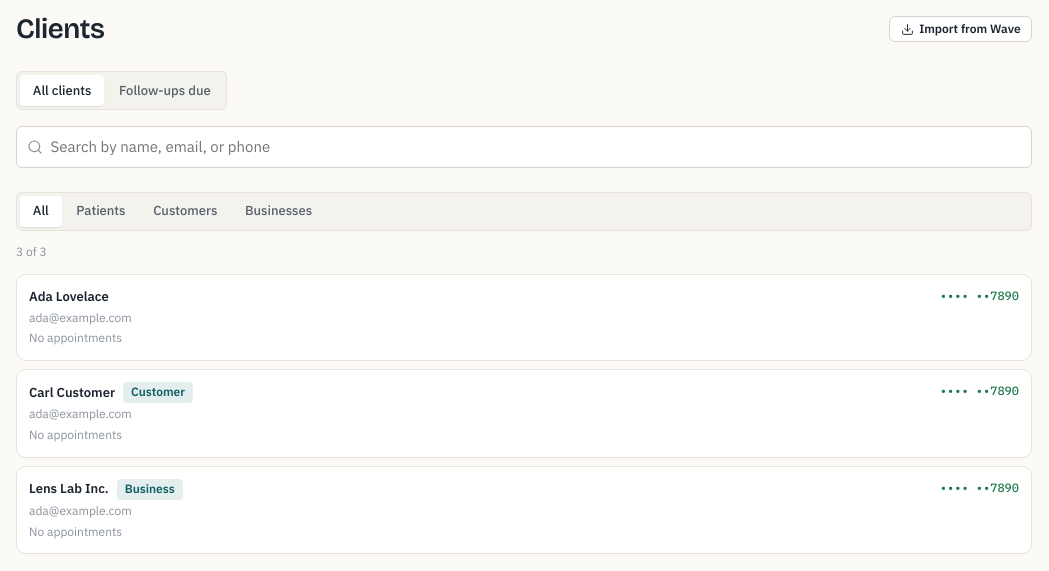
it: Patients › filters clients by type
This screenshot has width=1049, height=571.
expect the text "Ada Lovelace" is shown: met, box x1=29 y1=288 x2=109 y2=304
What coordinates should you click on to do the following:
click the button "Businesses"
I would click on:
 (278, 211)
Its box is x1=232 y1=196 x2=325 y2=227.
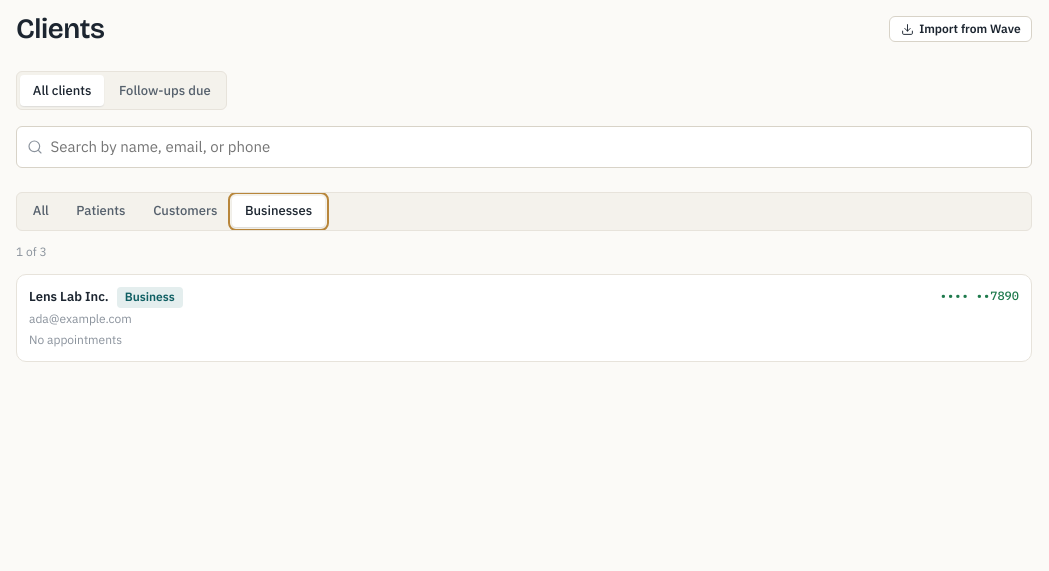
expect the text "Lens Lab Inc." is shown: met, box x1=29 y1=288 x2=109 y2=305
expect the button "Ada Lovelace" is gone: met
expect the button "Carl Customer" is gone: met
What coordinates should you click on to do the following:
click the button "Patients"
I would click on:
 (101, 211)
Its box is x1=64 y1=196 x2=138 y2=227.
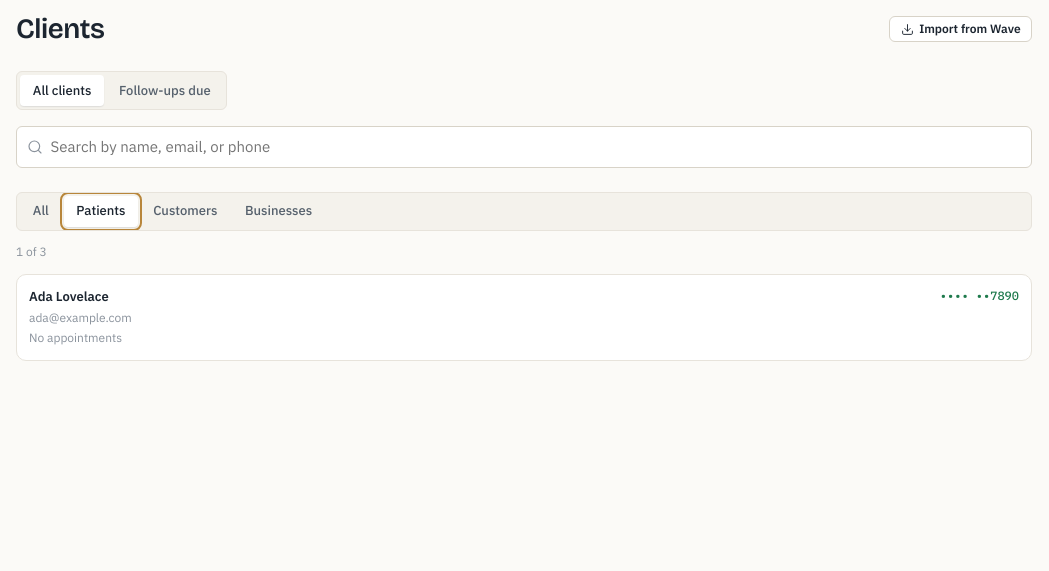
expect the text "Ada Lovelace" is shown: met, box x1=29 y1=288 x2=109 y2=304
expect the button "Lens Lab Inc." is gone: met
